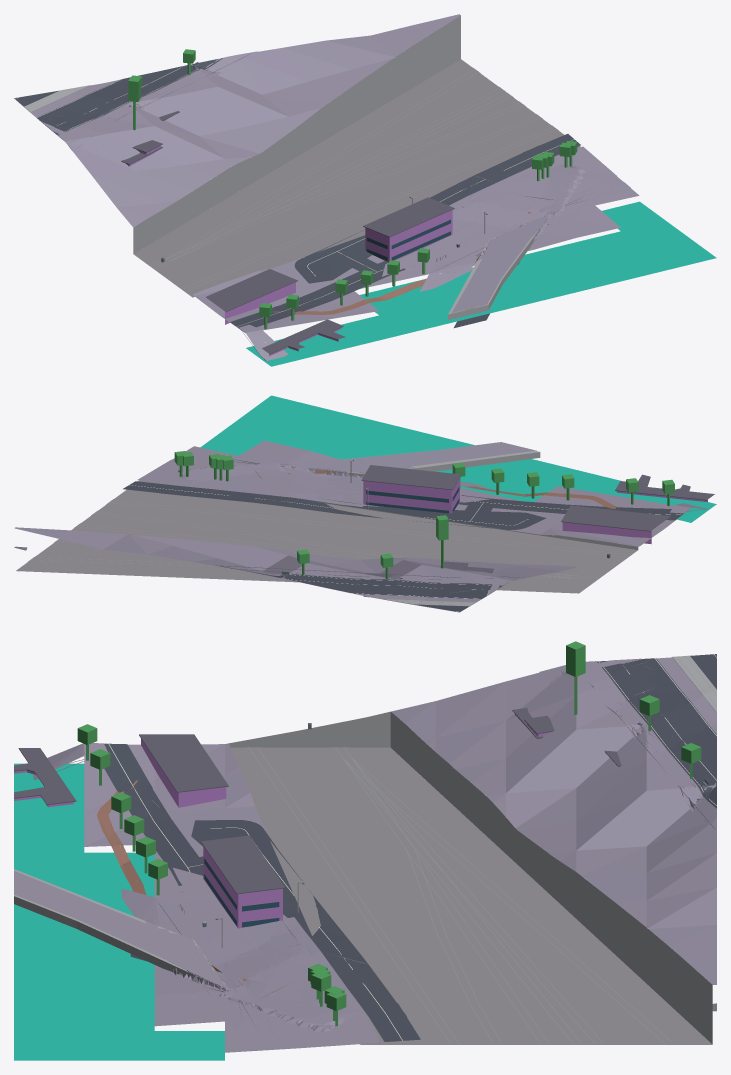
The picture shows the model from 3 angles, top to bottom: view 1: azimuth 30°, elevation 25°; view 2: azimuth 150°, elevation 25°; view 3: azimuth 270°, elevation 25°; orthographic projection. The views are drawn at different scales.
Parts seen in each view (by area): view 1: compiled-chunk; view 2: compiled-chunk; view 3: compiled-chunk.
Part boxes in pixels (bbox=[...]): compiled-chunk: bbox=[14, 14, 716, 366]; compiled-chunk: bbox=[14, 395, 716, 612]; compiled-chunk: bbox=[14, 641, 716, 1060].
Size of the model in its own units: 120 by 32.46 by 120.
